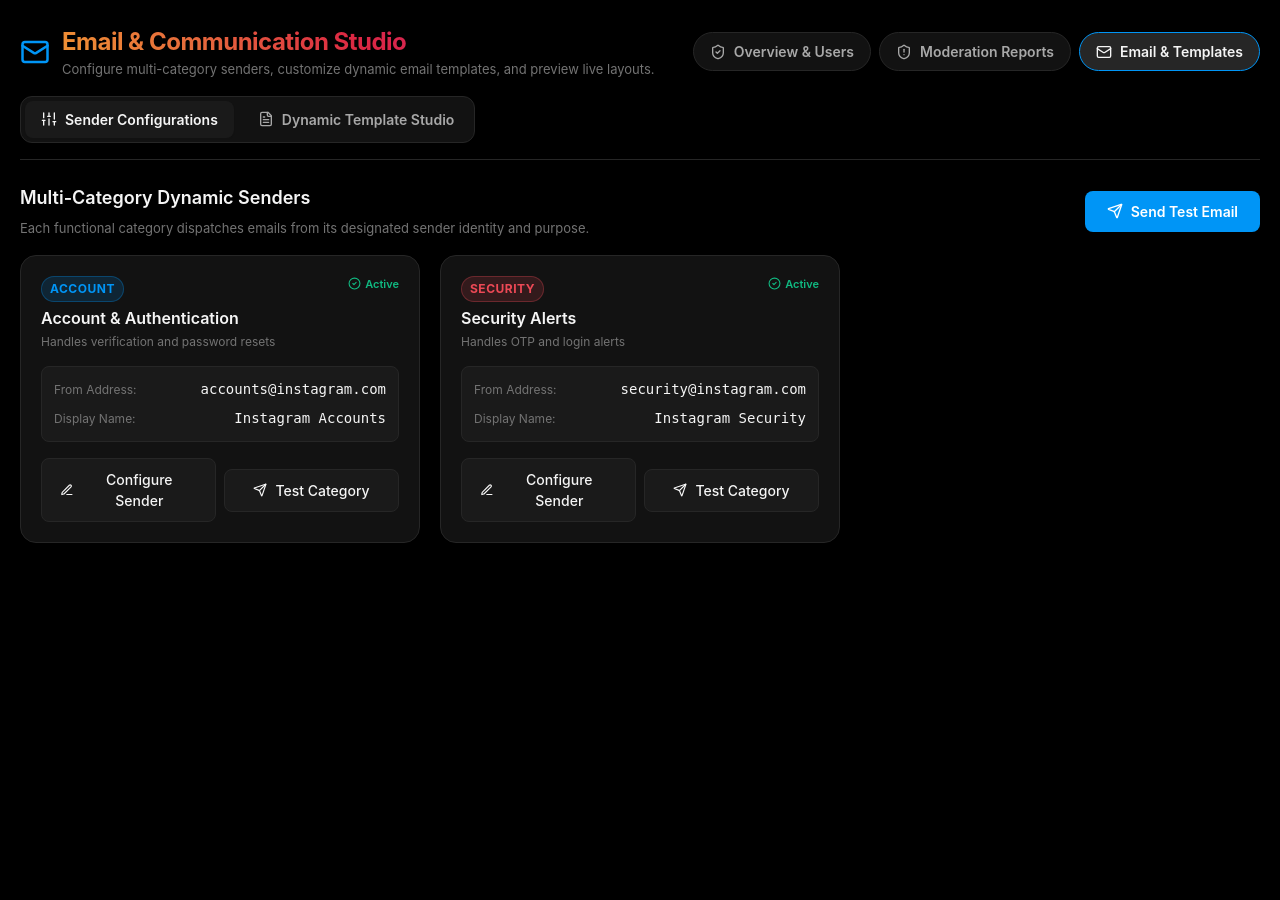
Admin Email & Template Control Center Suite › calls sendTestEmail service when test email dialog is submitted
Later steps or results of the test are not shown.
Check: the heading "Account & Authentication" is shown, box [41,308,239,328]
Click the button "Send Test Email" at [1172, 211], box [1085,190,1260,232]
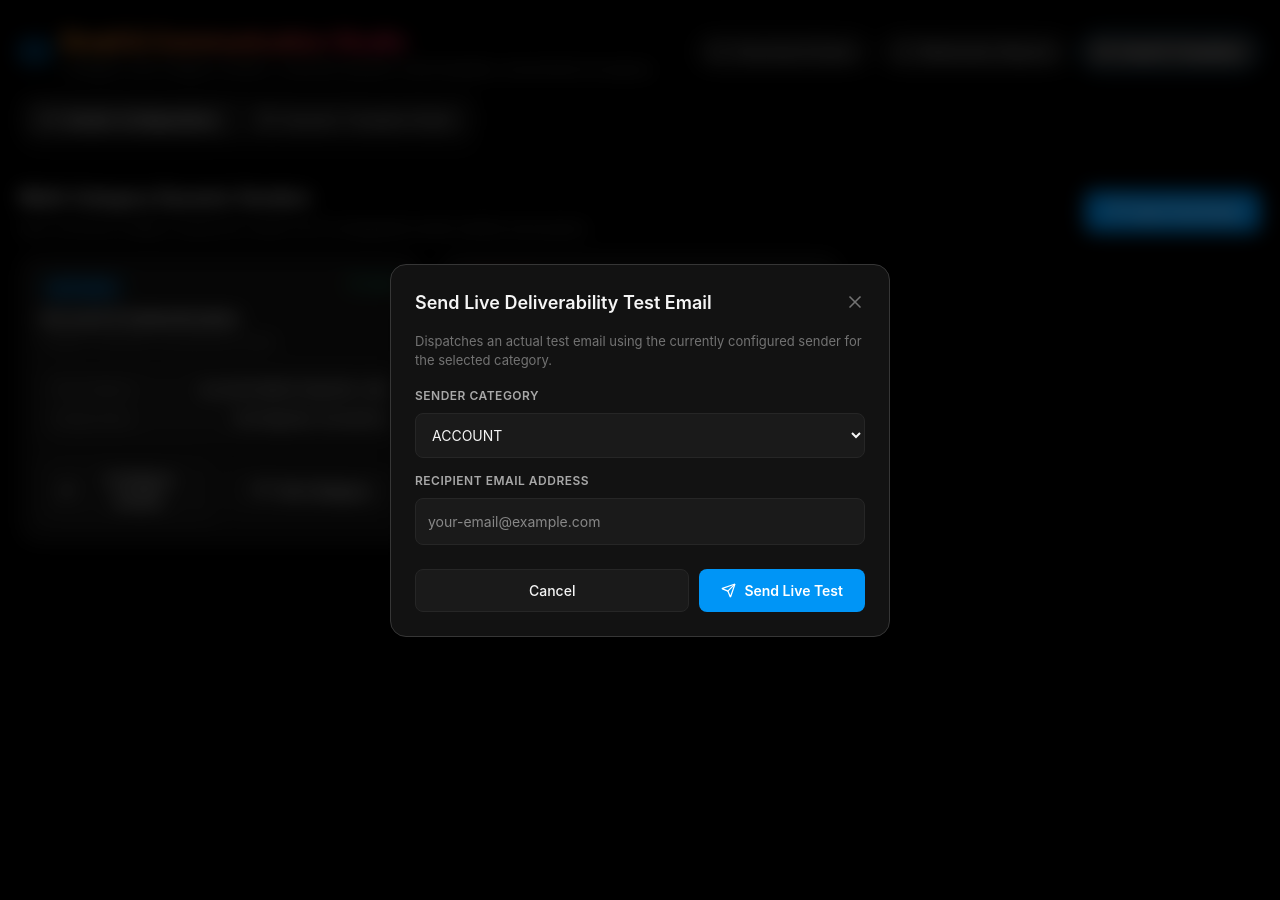
Check: the heading "Send Live Deliverability Test Email" is shown, box [415,288,712,316]
